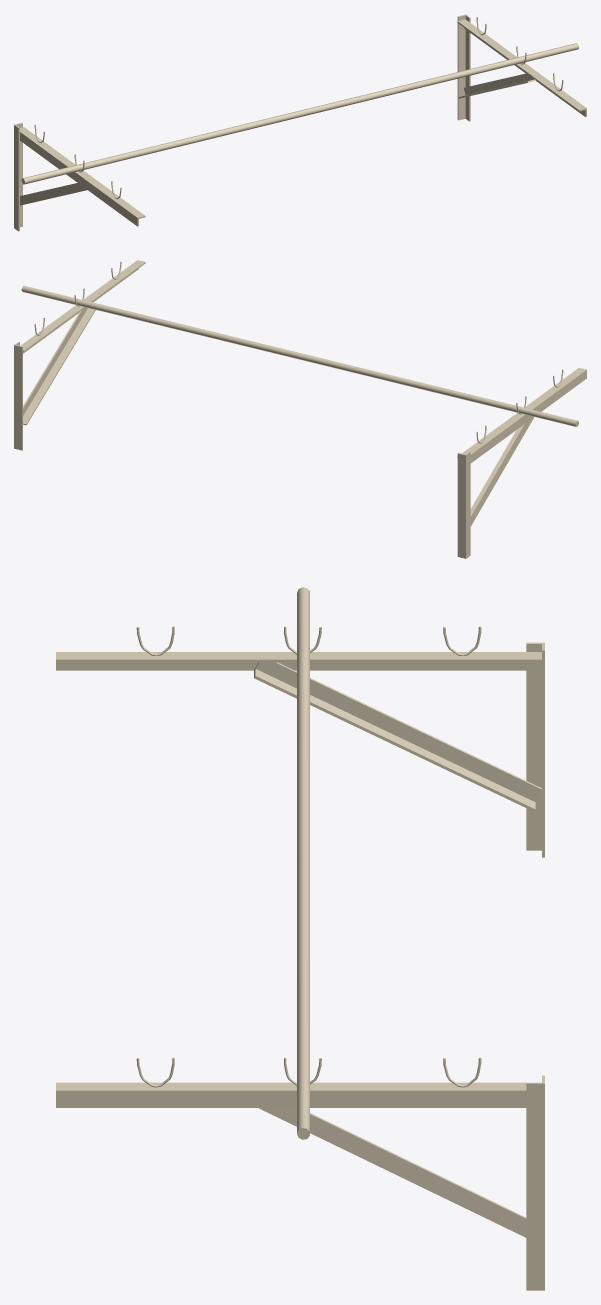
Rendered from Clothes_Hanger_B_Snaps004.FBX.
3 renders of one model, top to bottom at view 1: azimuth 30°, elevation 25°; view 2: azimuth 150°, elevation 25°; view 3: azimuth 270°, elevation 25°, orthographic. The views are drawn at different scales.
Visible parts, largest first — view 1: Geometry_Clothes_Hanger_B_LOD00; view 2: Geometry_Clothes_Hanger_B_LOD00; view 3: Geometry_Clothes_Hanger_B_LOD00.
Part boxes in pixels (<box>): Geometry_Clothes_Hanger_B_LOD00: <box>14,14,586,231</box>; Geometry_Clothes_Hanger_B_LOD00: <box>14,260,586,558</box>; Geometry_Clothes_Hanger_B_LOD00: <box>56,587,544,1290</box>.
Size of what is drawn, in the model's own units: 218 by 42.82 by 83.38.
